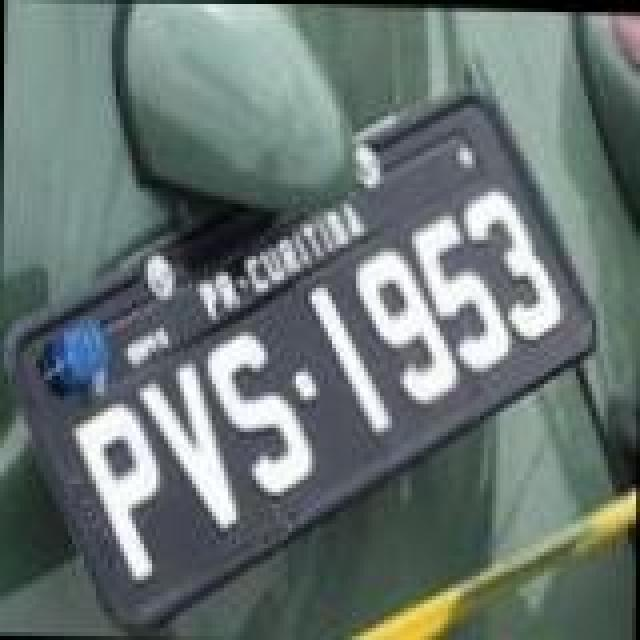1: (304, 282, 400, 438)
3: (460, 188, 568, 344)
5: (404, 212, 516, 380)
9: (350, 248, 466, 404)
P: (68, 402, 164, 586)
S: (202, 330, 322, 502)
V: (134, 362, 246, 534)
